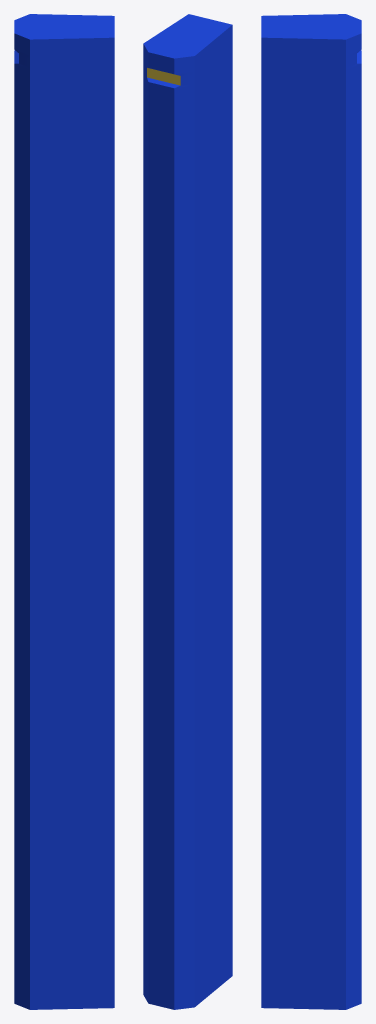
File: TowerCannons 2.fbx
3 views of the same model, side by side, from view 1: azimuth 90°, elevation 25°; view 2: azimuth 150°, elevation 25°; view 3: azimuth 270°, elevation 25° (orthographic).
Visible parts, largest first — view 1: Cylinder.005; view 2: Cylinder.005, Cylinder.004; view 3: Cylinder.005.
Part boxes in pixels (x1=…): Cylinder.005: x1=14, y1=14, x2=114, y2=1009; Cylinder.005: x1=143, y1=14, x2=232, y2=1009; Cylinder.004: x1=147, y1=68, x2=180, y2=85; Cylinder.005: x1=261, y1=14, x2=361, y2=1009.
Size of the model in its own units: 13.21 by 234 by 21.95.
